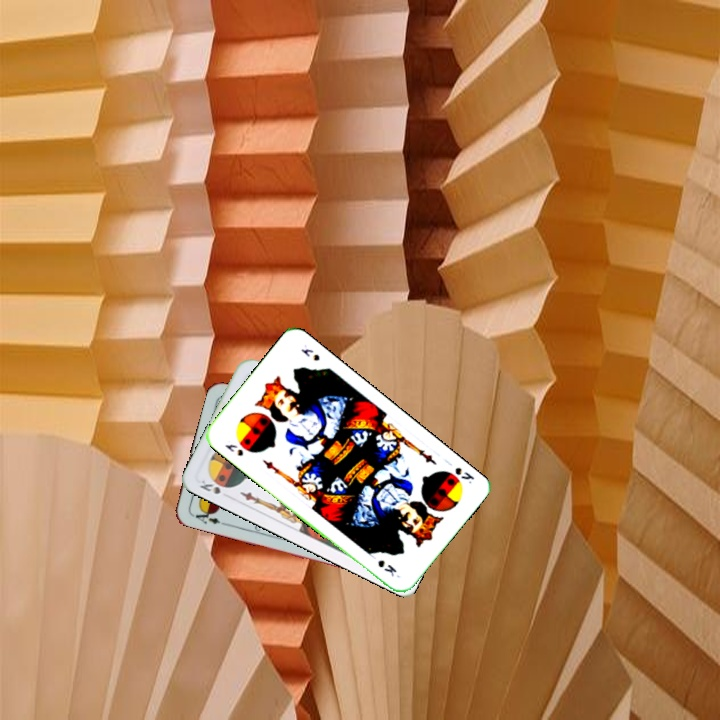EA: (187, 505, 222, 527)
SK: (442, 458, 477, 486), (195, 475, 232, 497), (220, 440, 246, 459)
